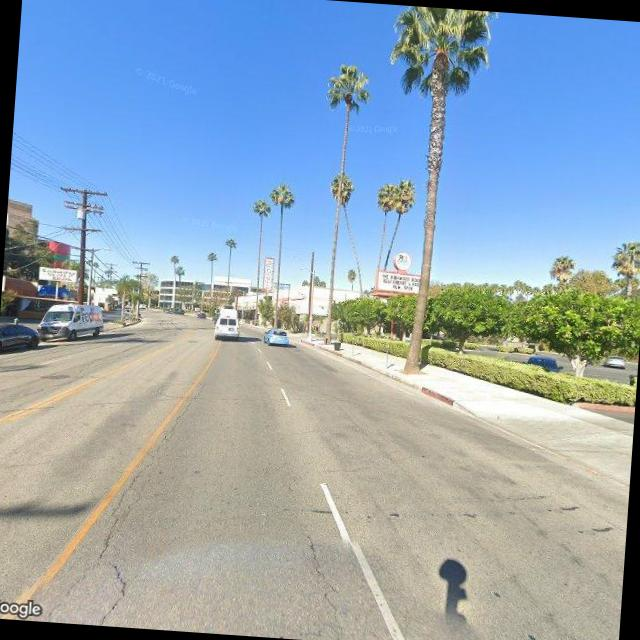pothole: (65, 380, 202, 630), (296, 526, 352, 630)
